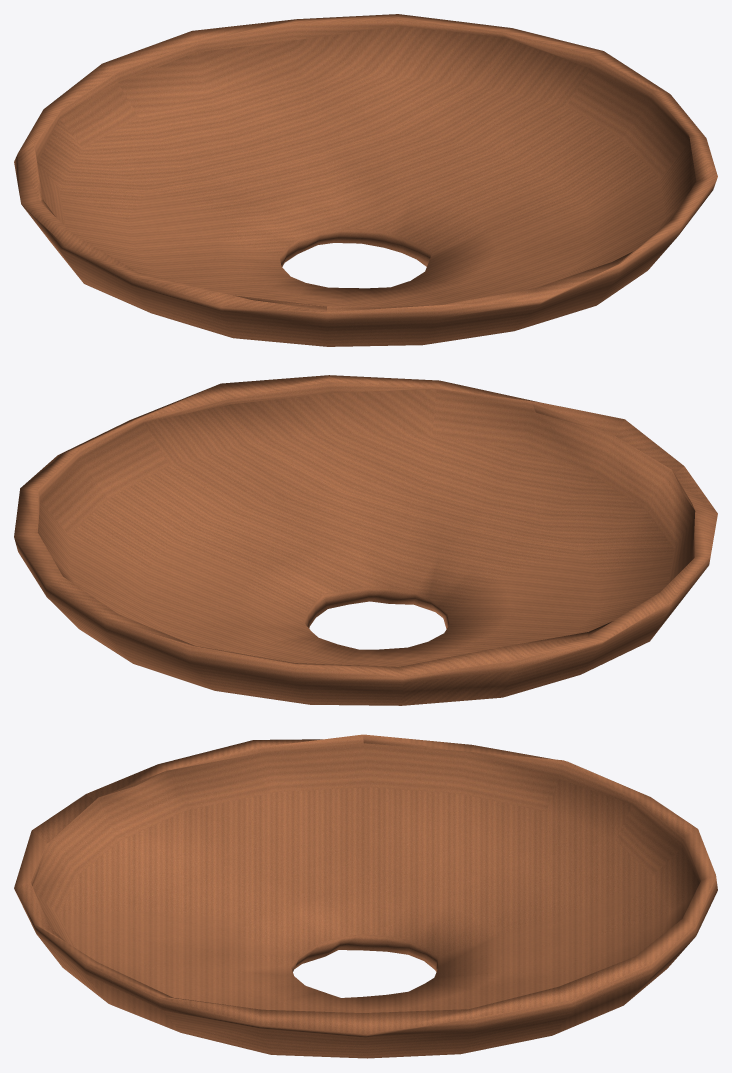
Rendered from plate.glb.
3 views of the same model, one above another, from view 1: azimuth 30°, elevation 25°; view 2: azimuth 150°, elevation 25°; view 3: azimuth 270°, elevation 25° (orthographic).
Visible parts, largest first — view 1: plate; view 2: plate; view 3: plate.
Boxes of the visible parts, box(x1,y1,x2,y2) form: plate: box(14, 14, 717, 346); plate: box(14, 375, 717, 705); plate: box(14, 734, 717, 1058).
Size of the model in its own units: 0.6697 by 0.1178 by 0.6684.
Materials: 1 (1 with a texture image).
